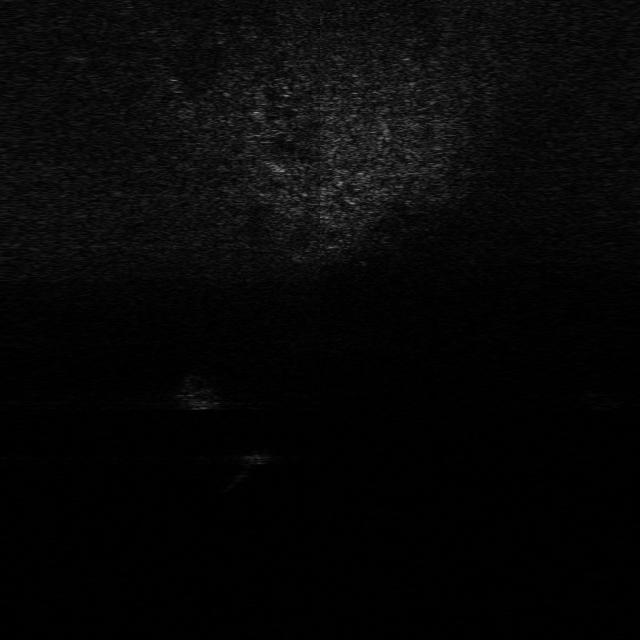circle cage: (167, 368, 231, 413)
cylinder: (222, 448, 260, 496)
